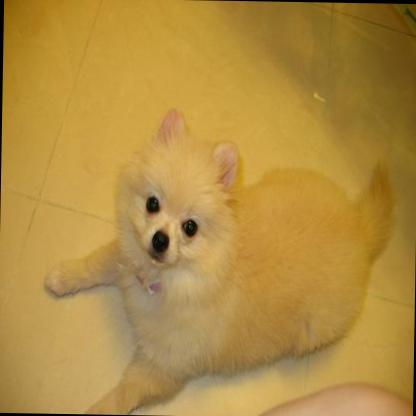Pomeranian: (39, 103, 397, 416)
